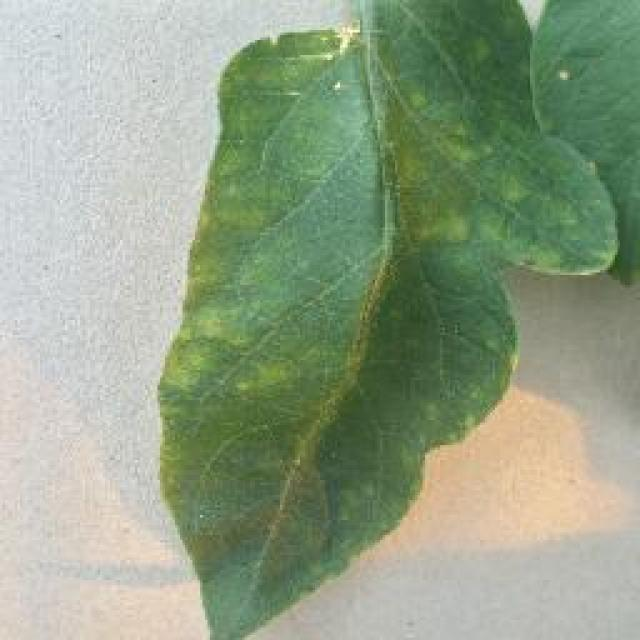Tomato___Late_blight: (160, 0, 638, 638)
